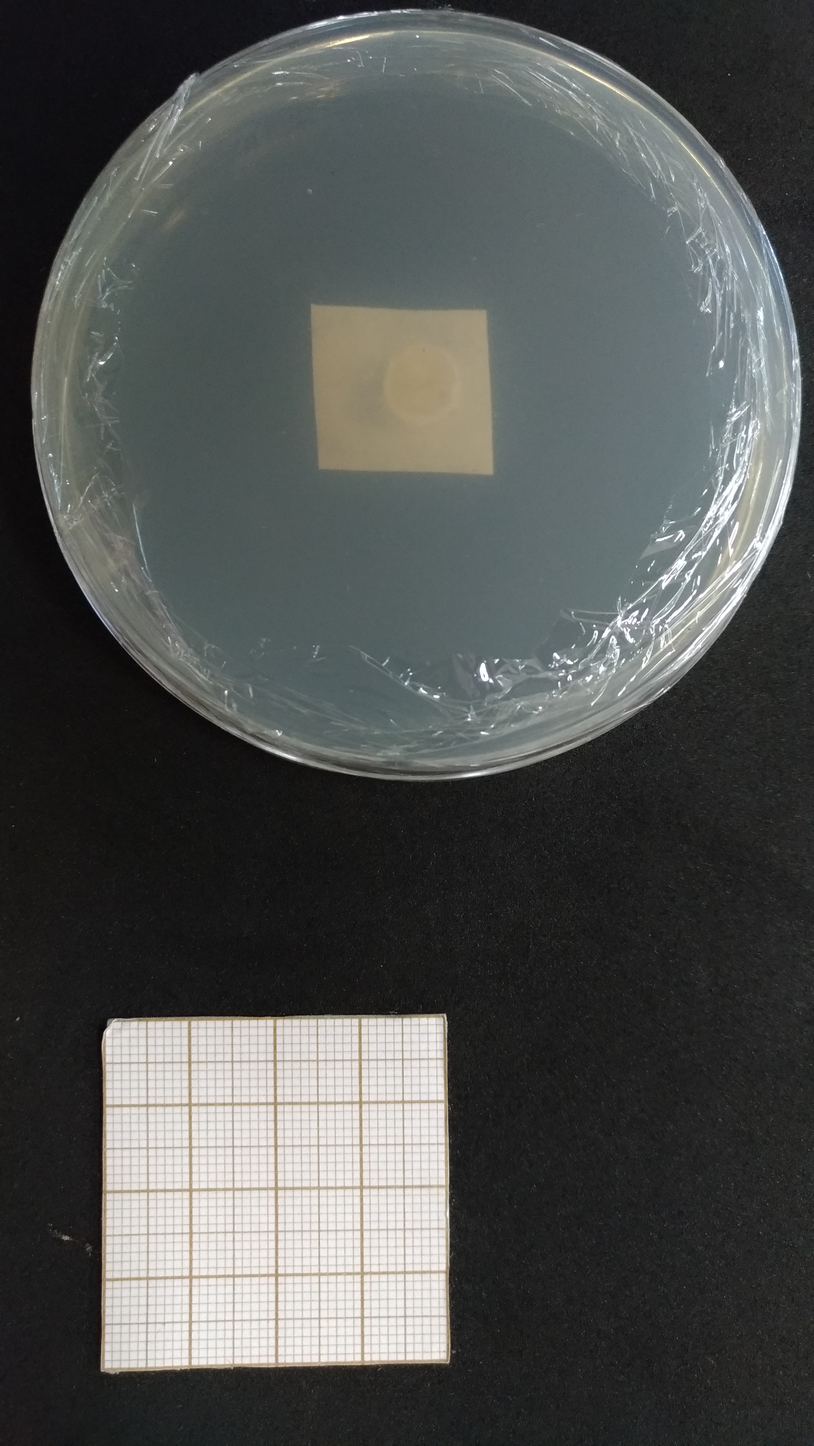escala: (100, 1015, 447, 1369)
fungo: (383, 340, 457, 423)
